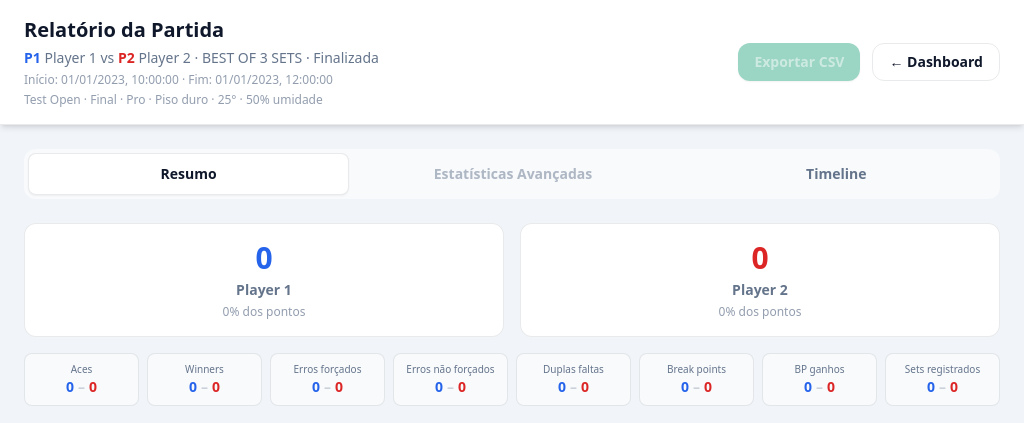
Test: ReportPageView - Timeline Functionality › renders empty timeline state when there are no points
Switch to Timeline tab
Click the button "Timeline". click: (836, 174)
box: x1=677 y1=153 x2=996 y2=195
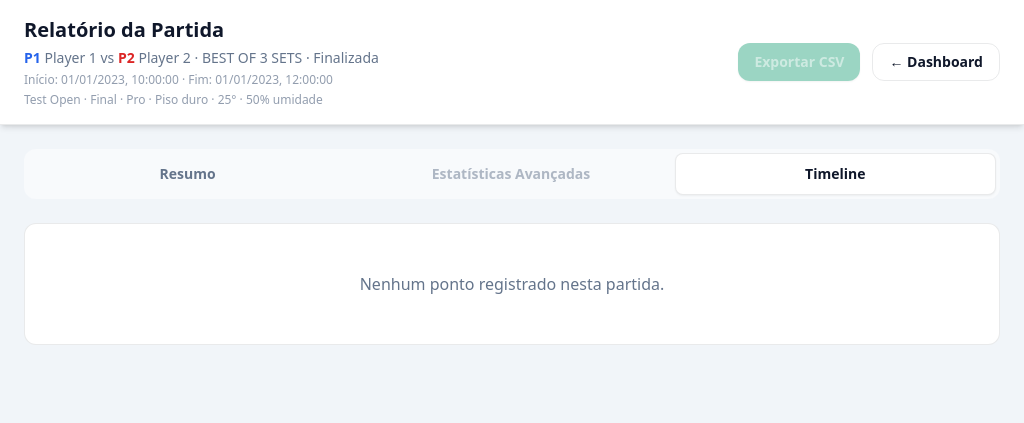
Check: the text "Nenhum ponto registrado nesta partida." is shown, box x1=360 y1=273 x2=664 y2=295
